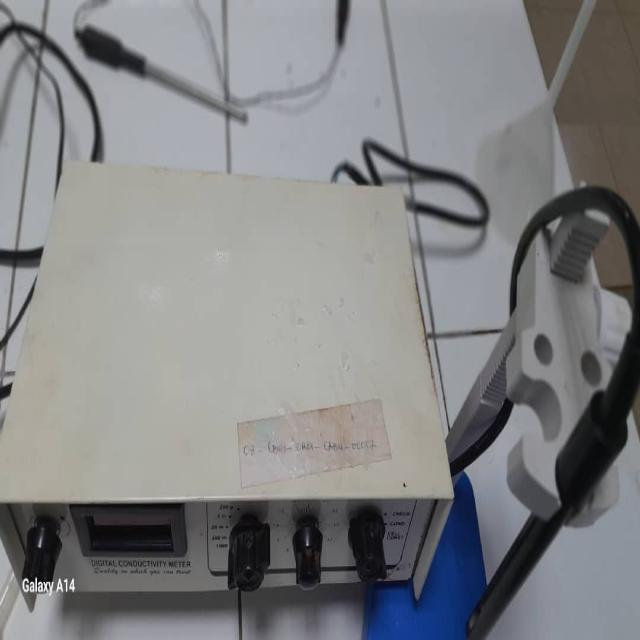Conductivity Meter: (6, 154, 640, 640)
